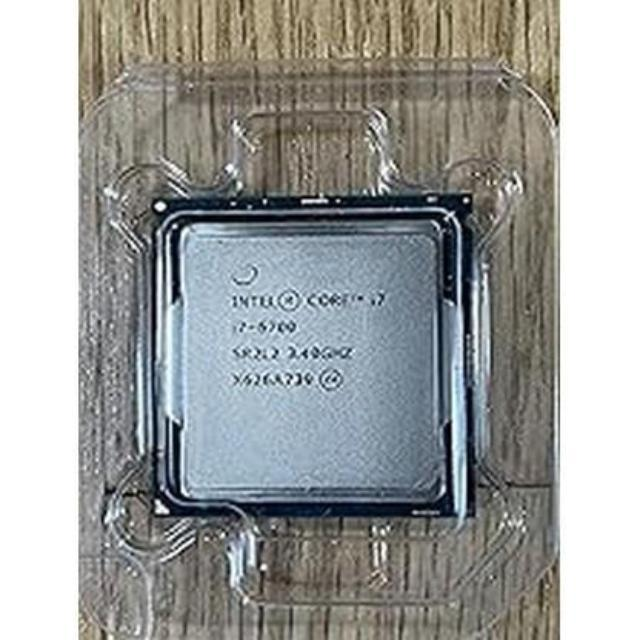CPU: (158, 208, 460, 510)
